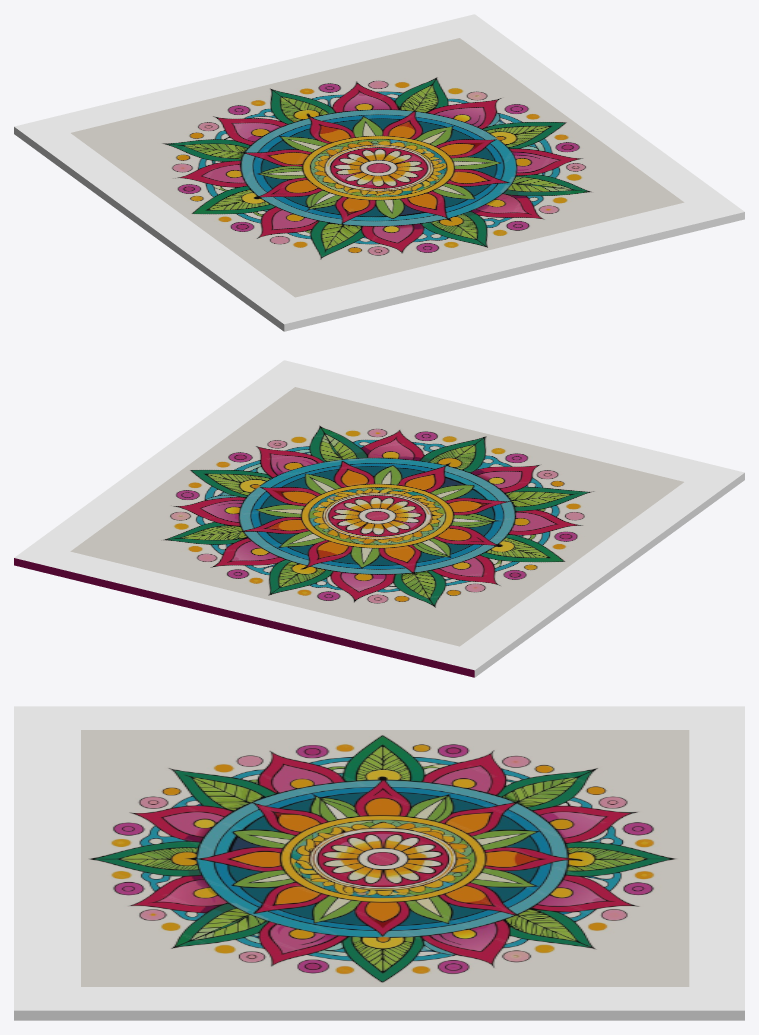
3 renders of one model, top to bottom at view 1: azimuth 30°, elevation 25°; view 2: azimuth 150°, elevation 25°; view 3: azimuth 270°, elevation 25°, orthographic. The views are drawn at different scales.
Parts seen in each view (by area): view 1: 6808999; view 2: 6808999; view 3: 6808999.
Boxes of the visible parts, x1,y1,x2,y2 form: 6808999: [14, 14, 744, 331]; 6808999: [14, 360, 744, 677]; 6808999: [14, 706, 744, 1020].
Size of the model in its own units: 19.69 by 1.68 by 19.99.
Materials: 9 (2 with a texture image).
